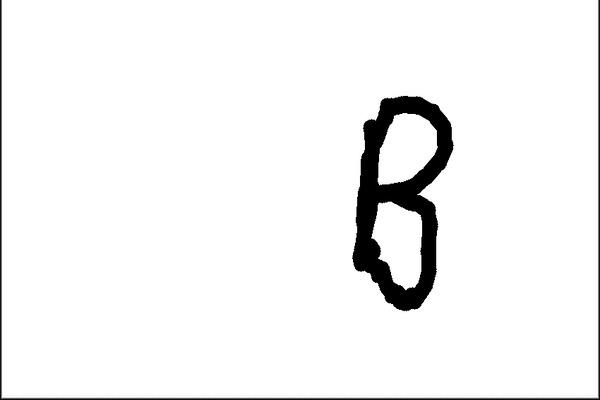B: (346, 92, 455, 315)
